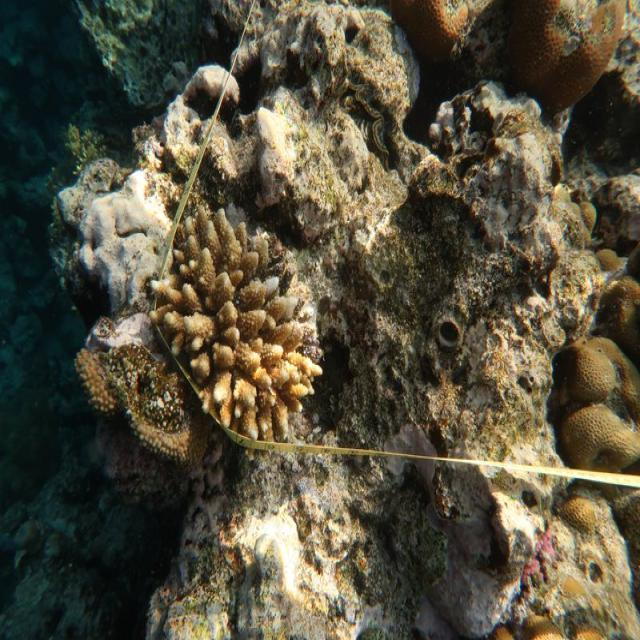Healthy Coral: (159, 204, 328, 444), (74, 346, 196, 464), (516, 0, 640, 105), (565, 324, 640, 483), (383, 0, 499, 73)
